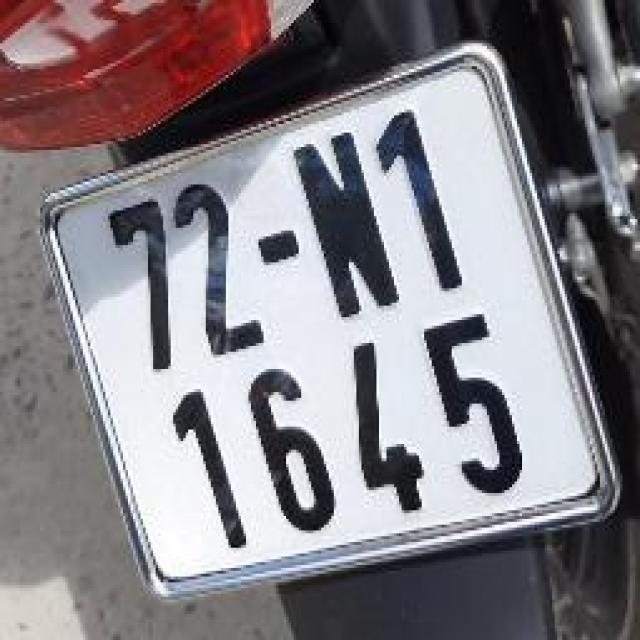1: (357, 95, 485, 313), (152, 369, 275, 566)
2: (159, 167, 278, 374)
4: (321, 319, 456, 538)
5: (401, 293, 560, 517)
6: (228, 342, 366, 547)
7: (96, 186, 193, 387)
N: (279, 114, 418, 336)
